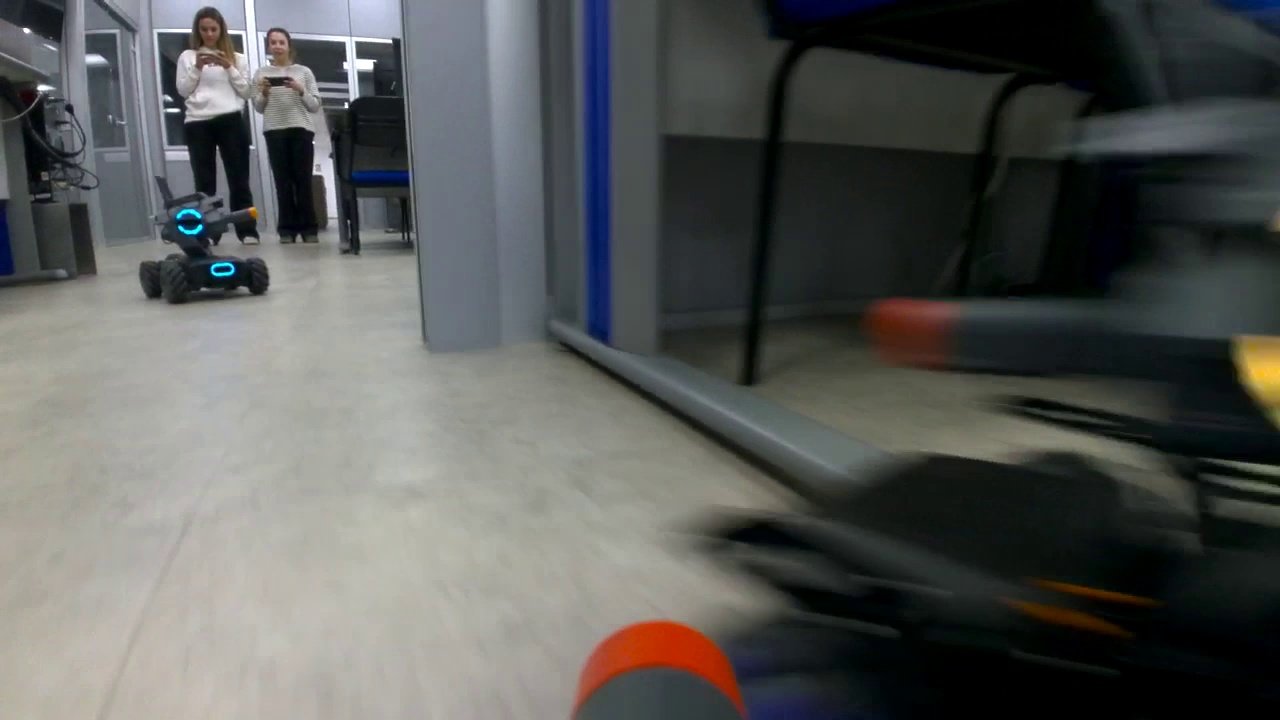robot: (136, 187, 272, 309)
